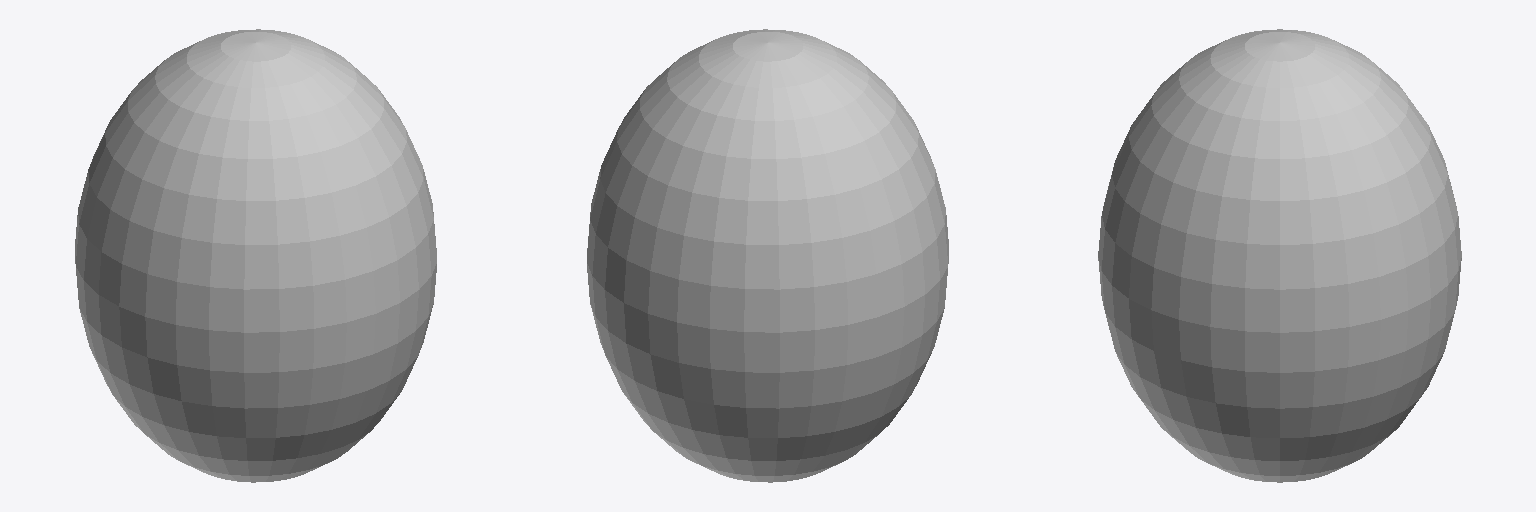
The model's file is Goal.obj.
3 renders of one model, left to right at view 1: azimuth 30°, elevation 25°; view 2: azimuth 150°, elevation 25°; view 3: azimuth 270°, elevation 25°, orthographic.
Visible parts, largest first — view 1: 球; view 2: 球; view 3: 球.
Boxes of the visible parts, x1=… form: 球: x1=75, y1=29, x2=436, y2=482; 球: x1=587, y1=29, x2=948, y2=482; 球: x1=1098, y1=29, x2=1461, y2=482.
Size of the model in its own units: 1.49 by 1.93 by 1.49.